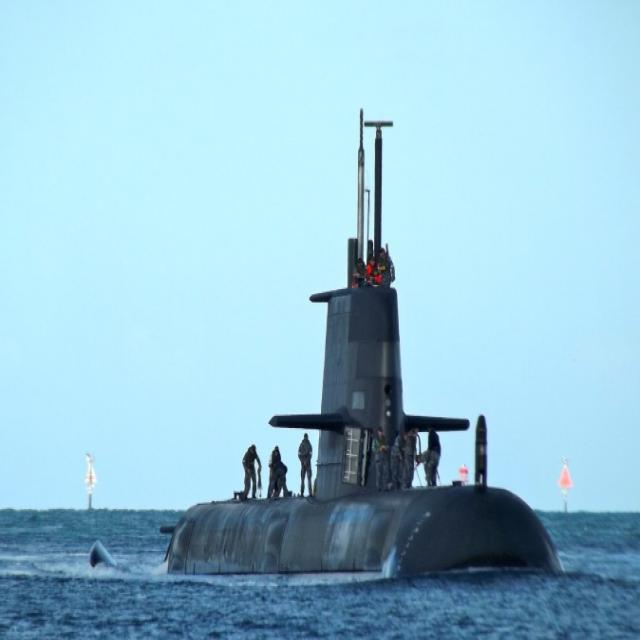submarine: (91, 111, 565, 577)
